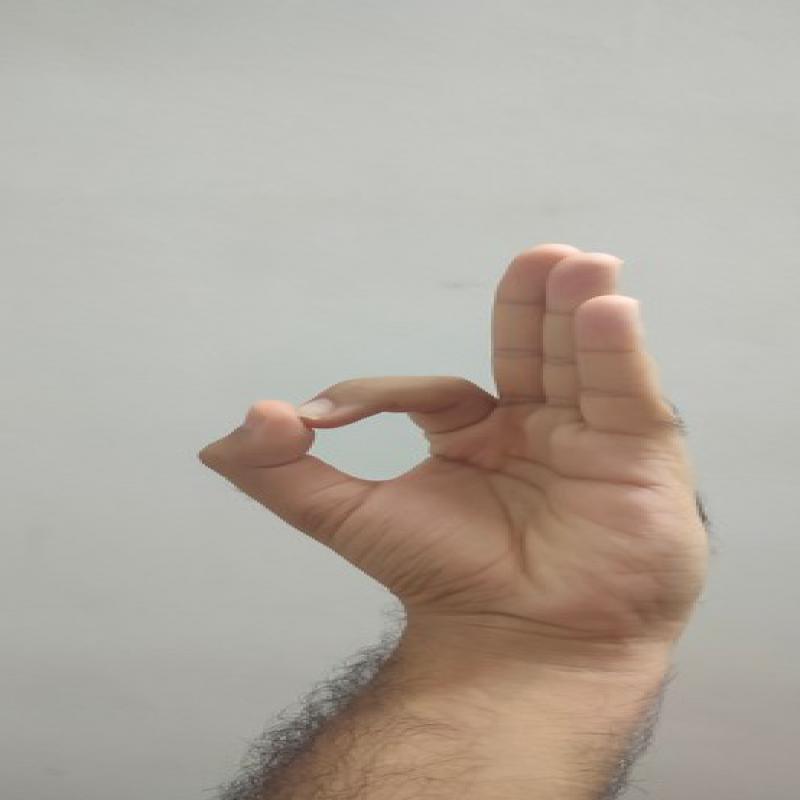Mudraakhyam: (180, 231, 726, 676)
